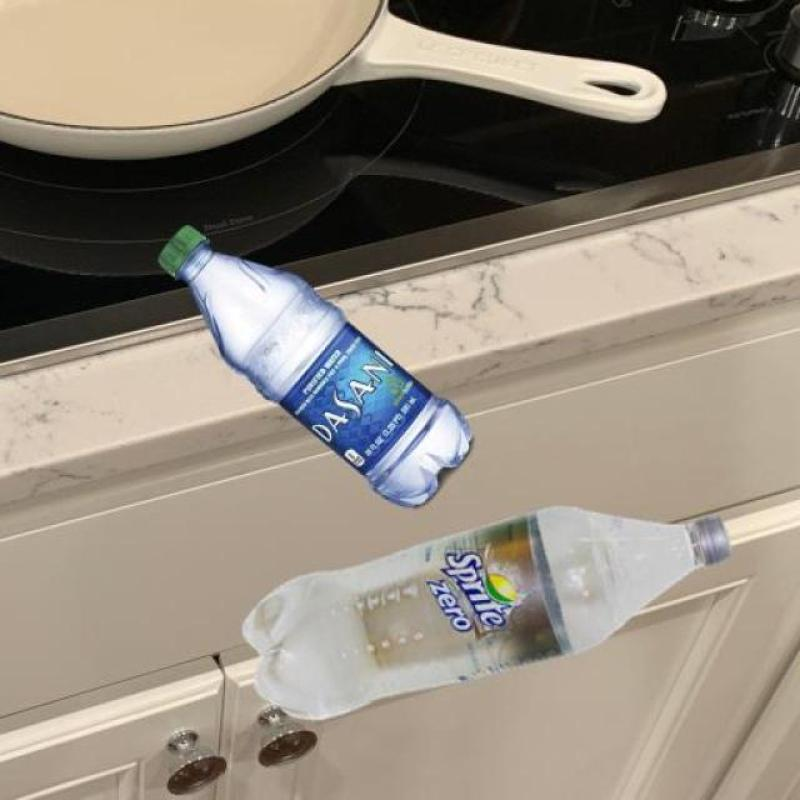botella: (237, 505, 732, 723), (158, 224, 468, 507)
